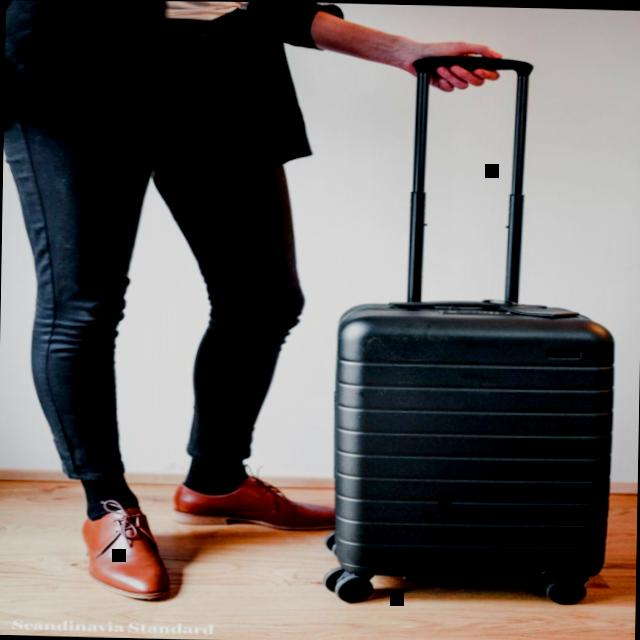luggage: (323, 289, 617, 600)
